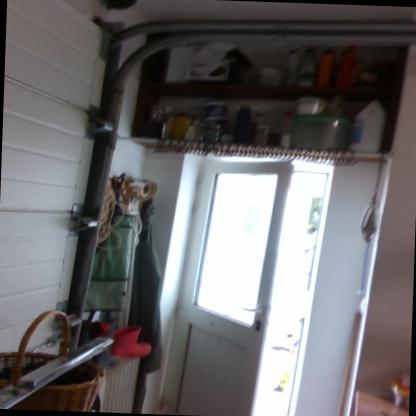semi: (156, 141, 349, 415)
